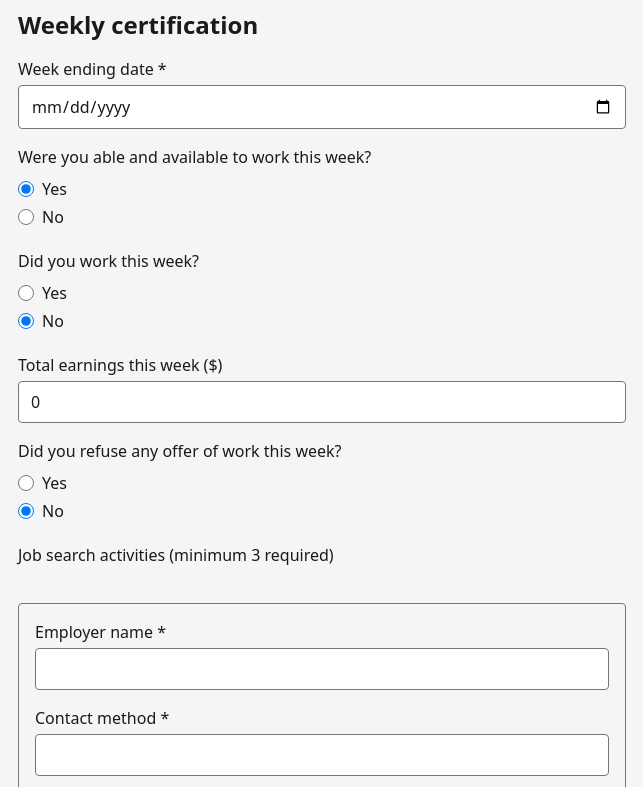
Test: CertifyPage marketplace prefill › prefills a read-only row from a matching marketplace application on date blur
In the date field labelled "Week ending date *": (322, 107) [18, 85, 626, 129], type "2026-08-15"
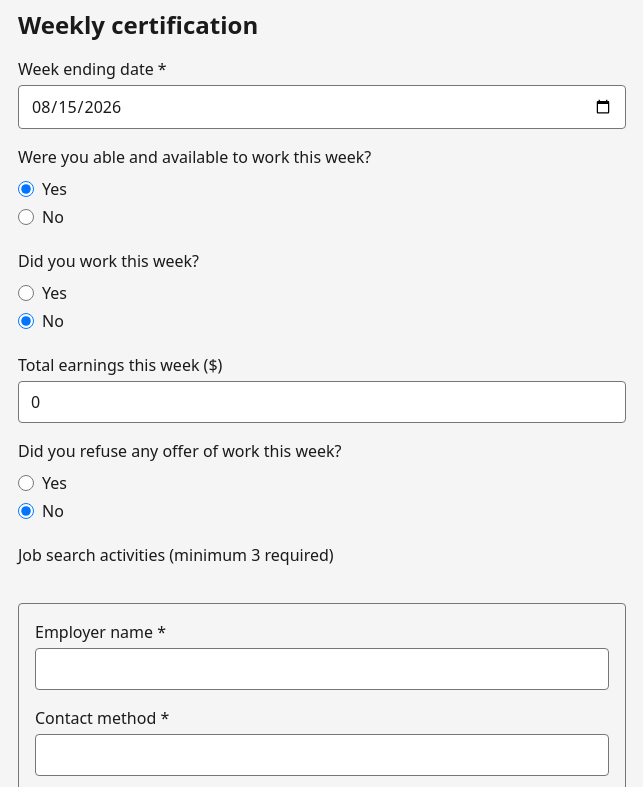
Leave the date field labelled "Week ending date *", box [18, 85, 626, 129]
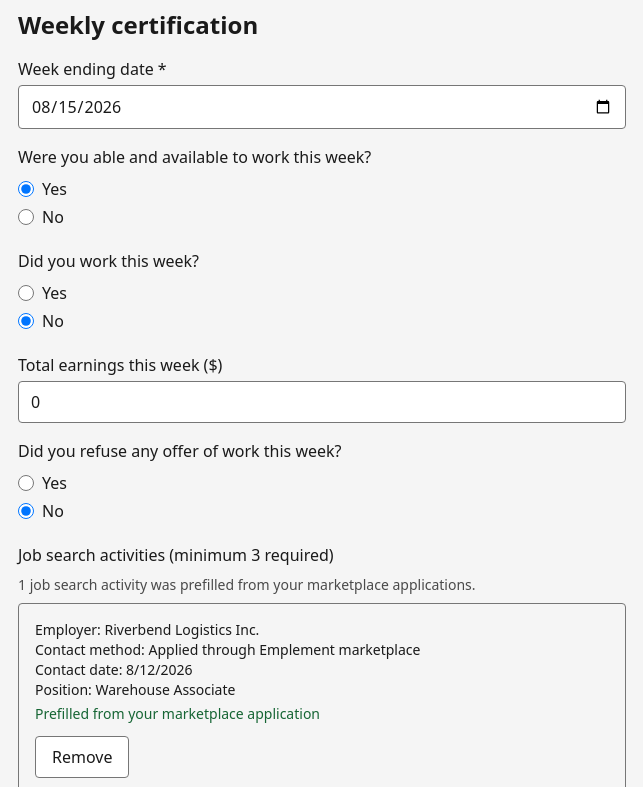
Check: the text "Riverbend Logistics Inc." is shown, box [104, 620, 259, 639]
Check: the text "Warehouse Associate" is shown, box [96, 680, 236, 699]
Check: the text "Prefilled from your marketplace application" is shown, box [35, 704, 320, 723]
